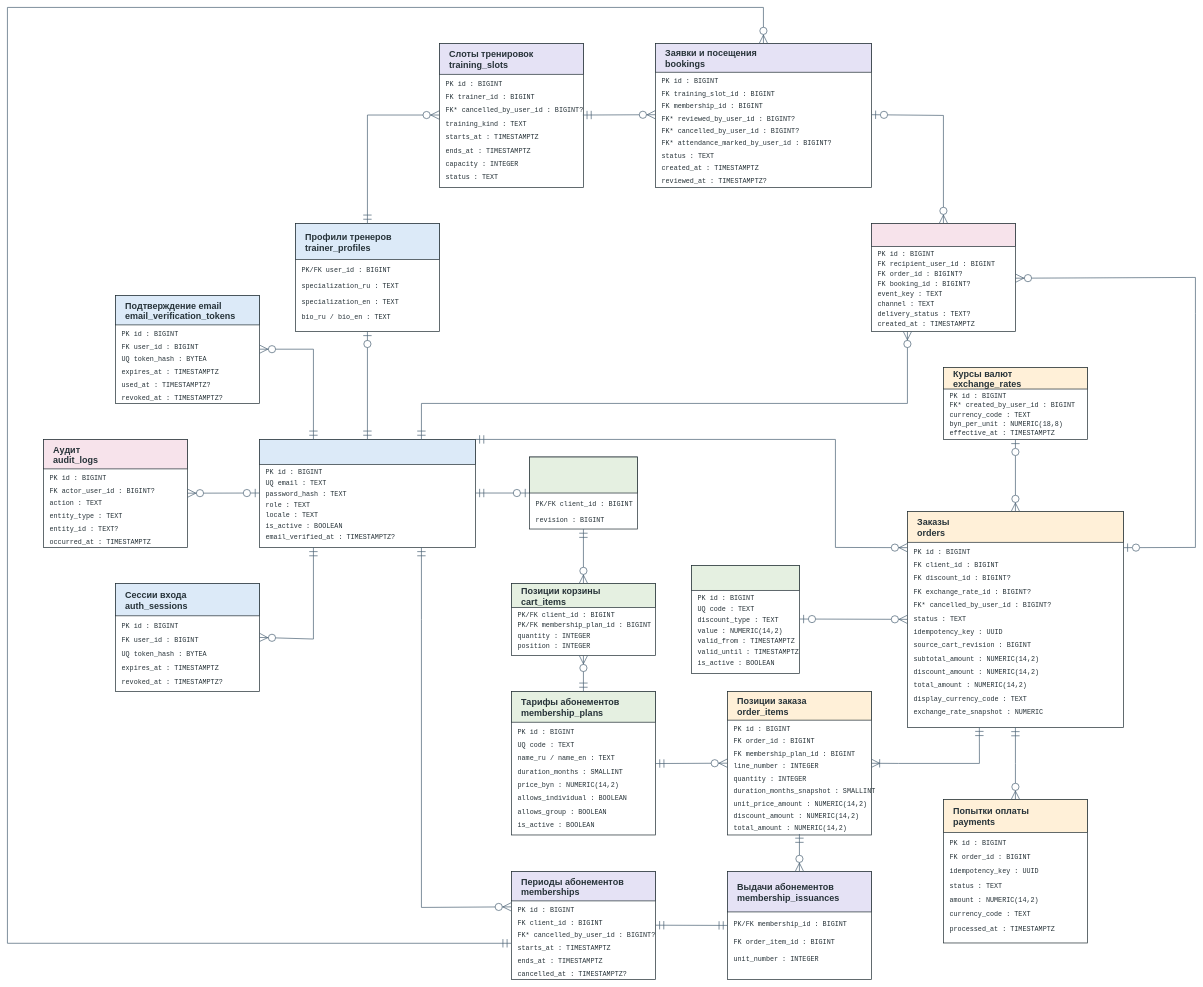
Some shapes in this 1203 by 987 pixel diagram are drawn without their labels. The centre of each missing label's shape, as x and y in pixels:
Корзины carts: the point at 583,474
Пользователи users: the point at 367,451
Промокоды discounts: the point at 745,577
Уведомления notifications: the point at 943,235
